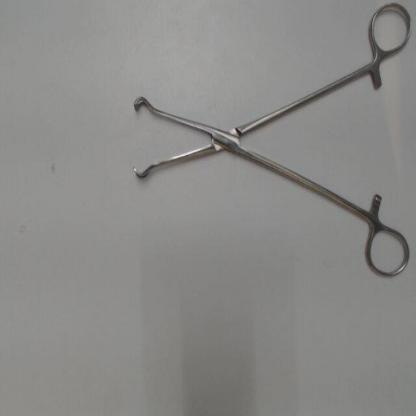8 Babcock Tissue Forceps: (126, 0, 414, 291)
